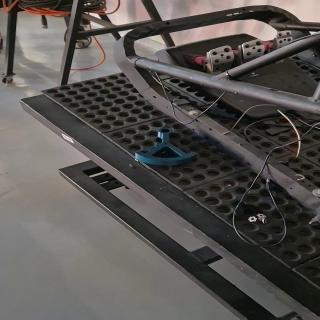haptic: (134, 127, 198, 166)
